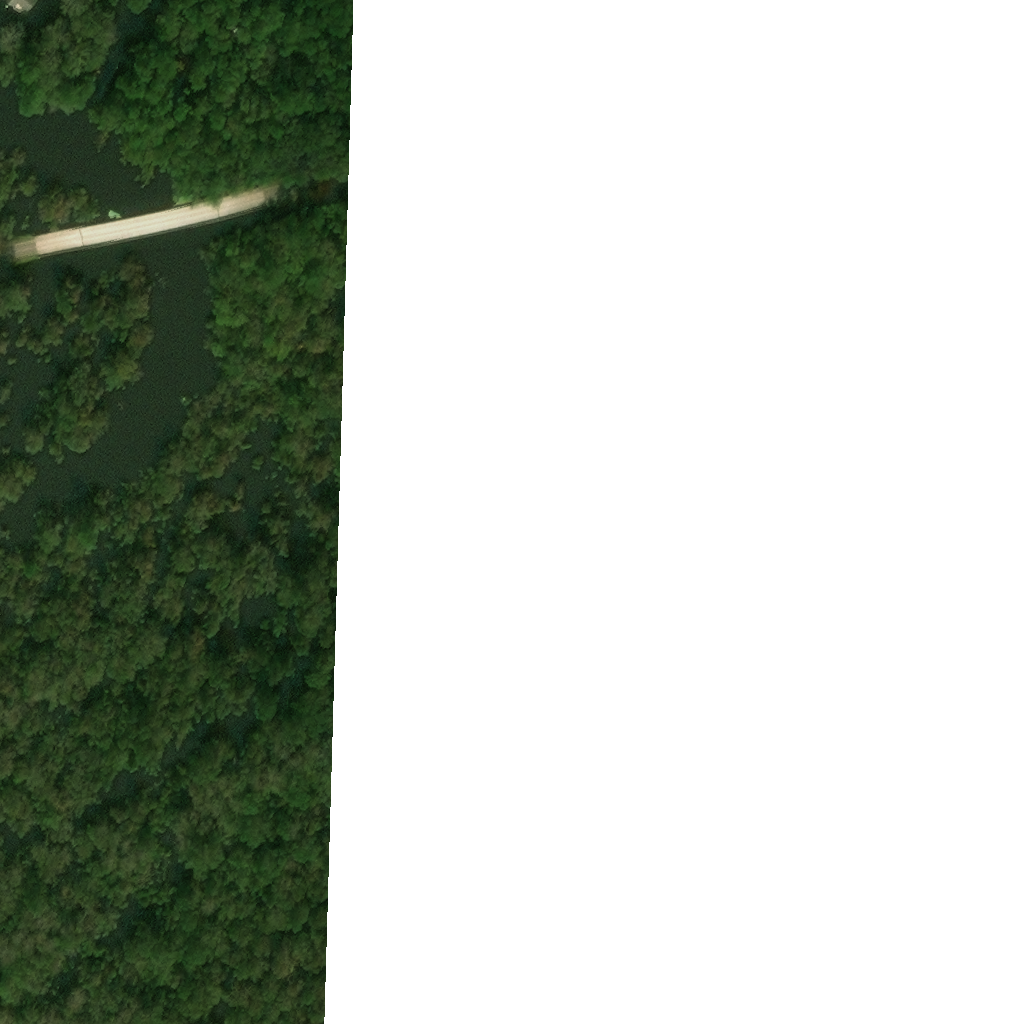major_damage: (9, 0, 42, 10)
